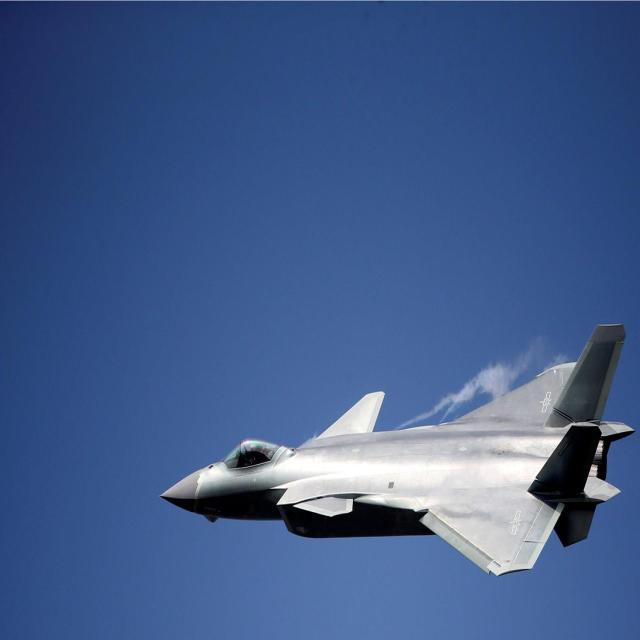MIL_Plane: (158, 324, 636, 578)
